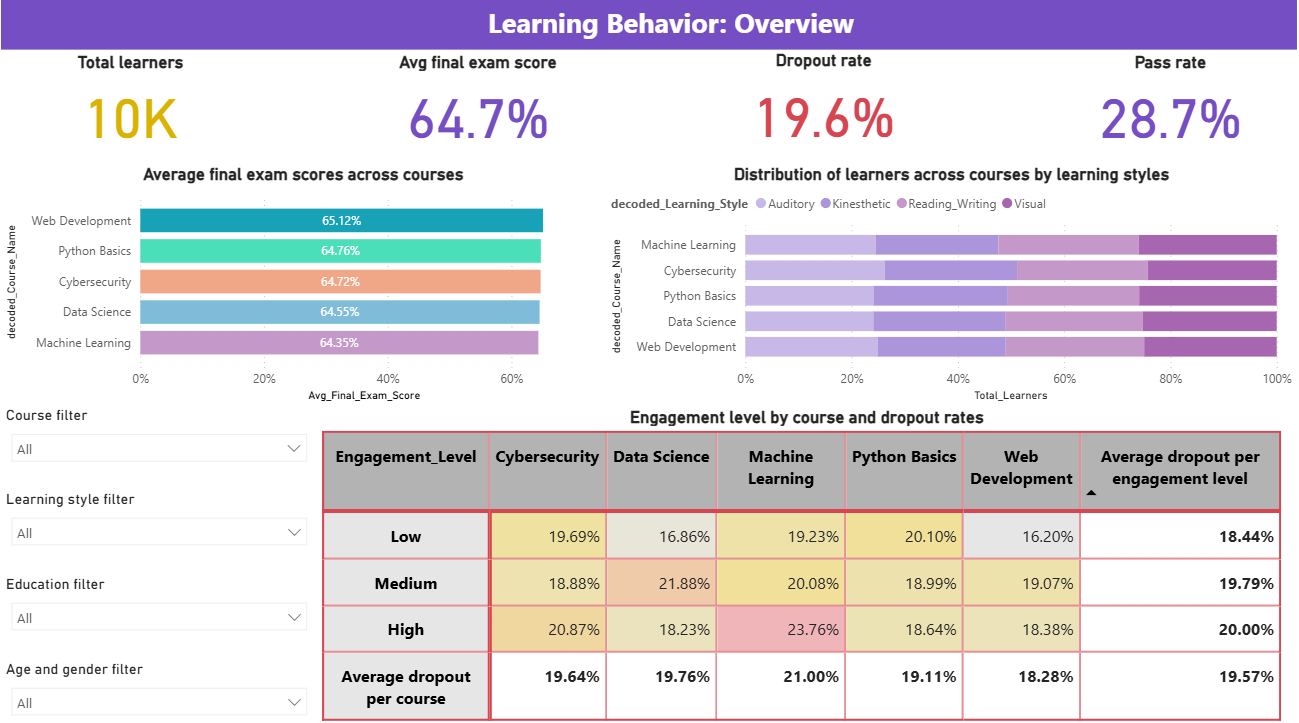

What the dashboard file says about the page in this screenshot:
{"tool":"powerbi","page":{"name":"Overview","canvas":[1280,720],"ordinal":0},"visuals":[{"type":"shape","box":[0,0,1280,50],"z":0},{"type":"card","title":"Avg final exam score","fields":{"Values":["_Measures.Avg_Final_Score"]},"box":[343.8,51.4,253.5,100],"z":1000},{"type":"card","title":"Dropout rate","fields":{"Values":["_Measures.Dropout Rate"]},"box":[686.1,51.1,252.3,100],"z":2000},{"type":"card","title":"Pass rate","fields":{"Values":["_Measures.Pass_Rate"]},"box":[1027.8,51.9,253.3,100],"z":3000},{"type":"textbox","box":[311.8,0,698.8,49.6],"z":4000},{"type":"card","title":"Total learners","fields":{"Values":["_Measures.Total_Learners"]},"box":[1.1,51.9,253.3,100],"z":5000},{"type":"clusteredBarChart","title":"Average final exam scores across courses","fields":{"Category":["personalized_learning_dataset_transformed.decoded_Course_Name"],"Y":["_Measures.Avg_Final_Exam_Score"]},"box":[0.5,163.1,597.3,240],"z":6000},{"type":"hundredPercentStackedBarChart","title":"Distribution of learners across courses by learning styles","fields":{"Category":["personalized_learning_dataset_transformed.decoded_Course_Name"],"Y":["_Measures.Total_Learners"],"Series":["personalized_learning_dataset_transformed.decoded_Learning_Style"]},"box":[597.8,163.1,682.7,240],"z":7000},{"type":"slicer","title":"Course filter","fields":{"Values":["personalized_learning_dataset_transformed.decoded_Course_Name"]},"box":[0,402.9,312.2,65.9],"z":8000},{"type":"slicer","title":"Learning style filter","fields":{"Values":["personalized_learning_dataset_transformed.decoded_Learning_Style"]},"box":[0,485.3,312.5,67.2],"z":9000},{"type":"slicer","title":"Age and gender filter","fields":{"Values":["personalized_learning_dataset_transformed.grouped_Age","personalized_learning_dataset_transformed.decoded_Gender"]},"box":[0,652.8,312.5,67.2],"z":10000},{"type":"slicer","title":"Education filter","fields":{"Values":["personalized_learning_dataset_transformed.decoded_Education_Level"]},"box":[0,569.1,312.5,67.2],"z":11000},{"type":"pivotTable","title":"Engagement level by course and dropout rates","fields":{"Columns":["personalized_learning_dataset_transformed.decoded_Course_Name"],"Values":["_Measures.Dropout_Rate"],"Rows":["personalized_learning_dataset_transformed.decoded_Engagement_Level"]},"box":[312.9,402.9,967.1,317.1],"z":12000}]}

Visuals, with their boxes in screenshot pixels (x1, y1, x2, y2), scaled from the page's 1280x720 canvas onto the 1299x723 screenshot:
shape: [left=0, top=0, right=1298, bottom=50]
"Avg final exam score" card: [left=349, top=52, right=606, bottom=152]
"Dropout rate" card: [left=696, top=51, right=952, bottom=152]
"Pass rate" card: [left=1043, top=52, right=1298, bottom=153]
textbox: [left=316, top=0, right=1026, bottom=50]
"Total learners" card: [left=1, top=52, right=258, bottom=153]
"Average final exam scores across courses" clusteredBarChart: [left=1, top=164, right=607, bottom=405]
"Distribution of learners across courses by learning styles" hundredPercentStackedBarChart: [left=607, top=164, right=1298, bottom=405]
"Course filter" slicer: [left=0, top=405, right=317, bottom=471]
"Learning style filter" slicer: [left=0, top=487, right=317, bottom=555]
"Age and gender filter" slicer: [left=0, top=656, right=317, bottom=722]
"Education filter" slicer: [left=0, top=571, right=317, bottom=639]
"Engagement level by course and dropout rates" pivotTable: [left=318, top=405, right=1298, bottom=722]
